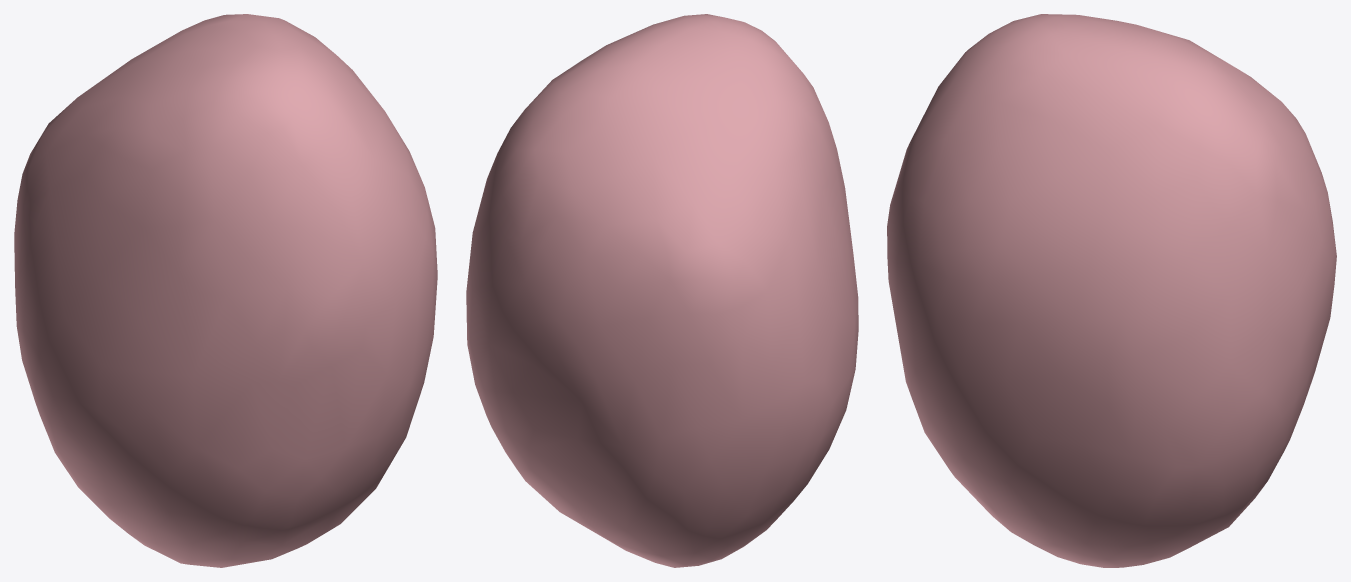
File: visceras-testis-l.glb
The picture shows the model from 3 angles, left to right: view 1: azimuth 30°, elevation 25°; view 2: azimuth 150°, elevation 25°; view 3: azimuth 270°, elevation 25°; orthographic projection. The views are drawn at different scales.
Visible parts, largest first — view 1: Testis.l; view 2: Testis.l; view 3: Testis.l.
Boxes of the visible parts, x1,y1,x2,y2 form: Testis.l: [14, 14, 437, 567]; Testis.l: [466, 14, 858, 567]; Testis.l: [887, 14, 1336, 567].
Size of the model in its own units: 0.0211 by 0.0294 by 0.0227.
